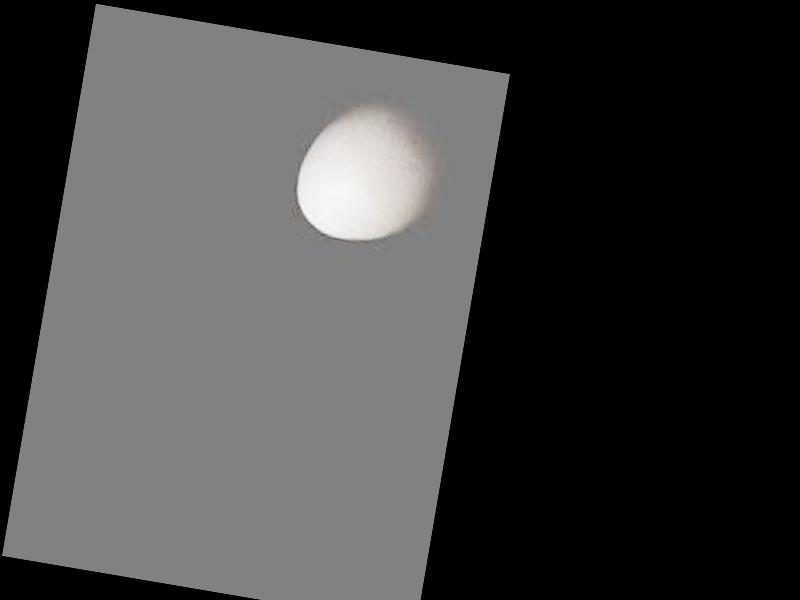Eggs: (288, 88, 449, 252)
